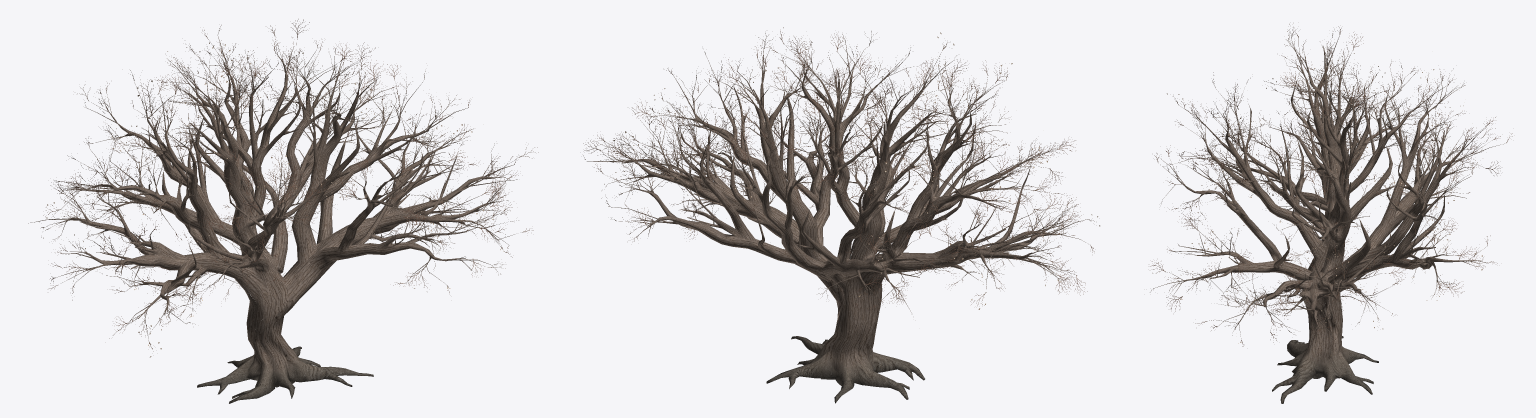
The model's file is Triadica_Winter_LOD0.glb.
3 views of the same model, side by side, from view 1: azimuth 30°, elevation 25°; view 2: azimuth 150°, elevation 25°; view 3: azimuth 270°, elevation 25° (orthographic). The views are drawn at different scales.
Visible parts, largest first — view 1: Triadica_Wood_LOD0, Triadica_Winter_Shoots_LOD0; view 2: Triadica_Wood_LOD0, Triadica_Winter_Shoots_LOD0; view 3: Triadica_Wood_LOD0, Triadica_Winter_Shoots_LOD0.
Boxes of the visible parts, x1,y1,x2,y2 form: Triadica_Wood_LOD0: (32,35,517,403); Triadica_Winter_Shoots_LOD0: (28,19,538,357); Triadica_Wood_LOD0: (587,43,1086,403); Triadica_Winter_Shoots_LOD0: (583,27,1099,309); Triadica_Wood_LOD0: (1155,35,1504,403); Triadica_Winter_Shoots_LOD0: (1150,23,1512,346).
Size of the model in its own units: 17.21 by 11.73 by 12.69.
Materials: 2 (2 with a texture image).
